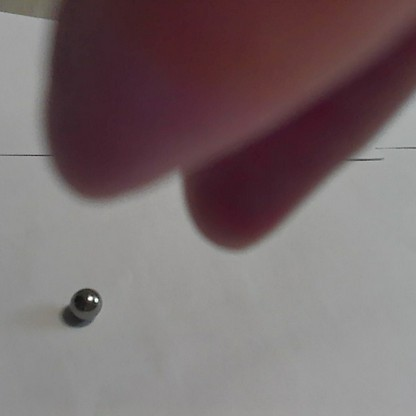ironball: (69, 284, 102, 324)
